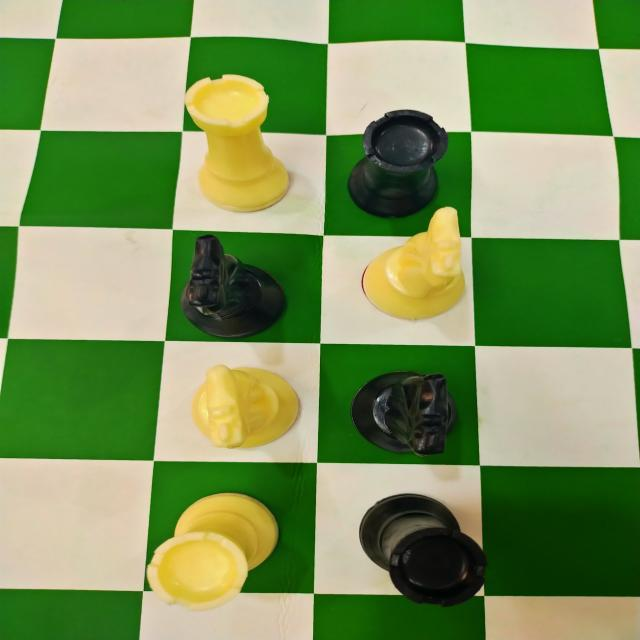black-knight: (178, 234, 296, 336), (348, 369, 458, 458)
black-rook: (357, 491, 490, 609), (344, 106, 452, 216)
white-knight: (360, 208, 469, 322), (191, 365, 303, 451)
white-rook: (146, 492, 280, 612), (184, 73, 290, 212)
